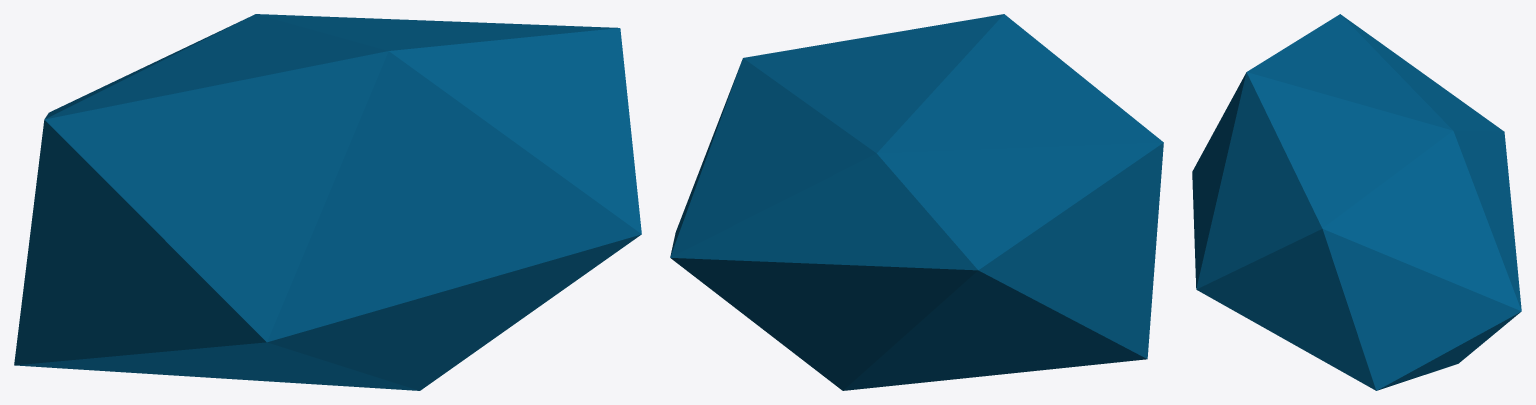
Rendered from rock.glb.
The picture shows the model from 3 angles, left to right: view 1: azimuth 30°, elevation 25°; view 2: azimuth 150°, elevation 25°; view 3: azimuth 270°, elevation 25°; orthographic projection. The views are drawn at different scales.
Visible parts, largest first — view 1: Rock; view 2: Rock; view 3: Rock.
Boxes of the visible parts, bbox=[...] form: Rock: bbox=[14, 14, 641, 390]; Rock: bbox=[670, 14, 1163, 390]; Rock: bbox=[1192, 14, 1521, 390].
Bounding box in the file's own units: 1.27 × 0.7784 × 0.8537.
